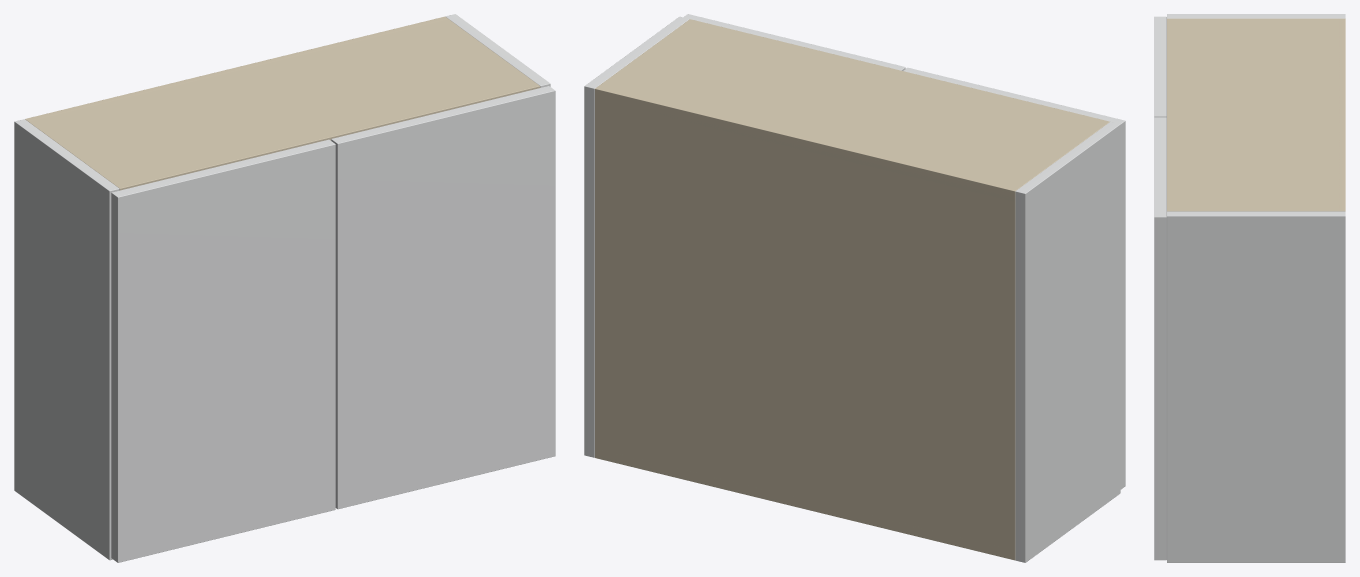
The model's file is oppein-ply-pgw-w3024.glb.
3 views of the same model, side by side, from view 1: azimuth 30°, elevation 25°; view 2: azimuth 150°, elevation 25°; view 3: azimuth 270°, elevation 25° (orthographic). The views are drawn at different scales.
Parts seen in each view (by area): view 1: Door, Door.001, Cabinet top, Cabinet side, Cabinet back, Cabinet side.001; view 2: Cabinet back, Cabinet top, Cabinet side, Cabinet side.001, Door, Door.001; view 3: Cabinet side.001, Cabinet top, Door.001, Cabinet back, Door, Cabinet side.
Boxes of the visible parts, bbox=[...] form: Door: bbox=[111, 139, 335, 562]; Door.001: bbox=[331, 86, 555, 509]; Cabinet top: bbox=[26, 16, 540, 190]; Cabinet side: bbox=[14, 119, 119, 560]; Cabinet back: bbox=[25, 16, 448, 121]; Cabinet side.001: bbox=[445, 14, 550, 87]; Cabinet back: bbox=[595, 86, 1018, 560]; Cabinet top: bbox=[595, 19, 1109, 201]; Cabinet side: bbox=[1015, 121, 1120, 562]; Cabinet side.001: bbox=[584, 16, 689, 457]; Door: bbox=[903, 67, 1125, 489]; Door.001: bbox=[683, 14, 905, 70]; Cabinet side.001: bbox=[1167, 211, 1345, 562]; Cabinet top: bbox=[1167, 18, 1345, 211]; Door.001: bbox=[1154, 117, 1166, 560]; Cabinet back: bbox=[1338, 18, 1345, 211]; Door: bbox=[1154, 16, 1166, 117]; Cabinet side: bbox=[1167, 14, 1345, 18].
Bounding box in the file's own units: 0.762 × 0.6096 × 0.3048.
